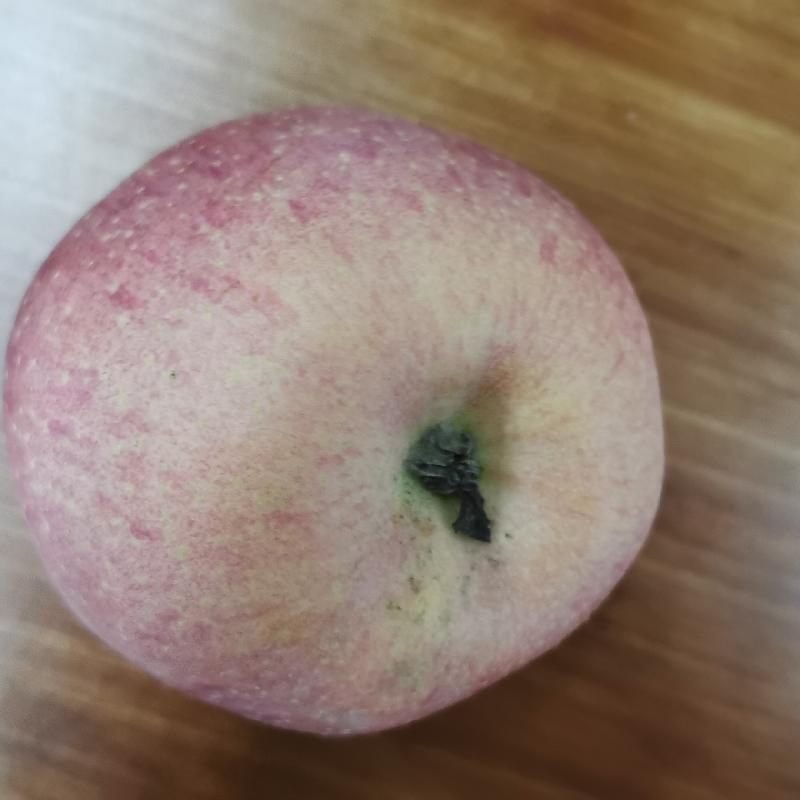apples: (6, 103, 672, 731)
